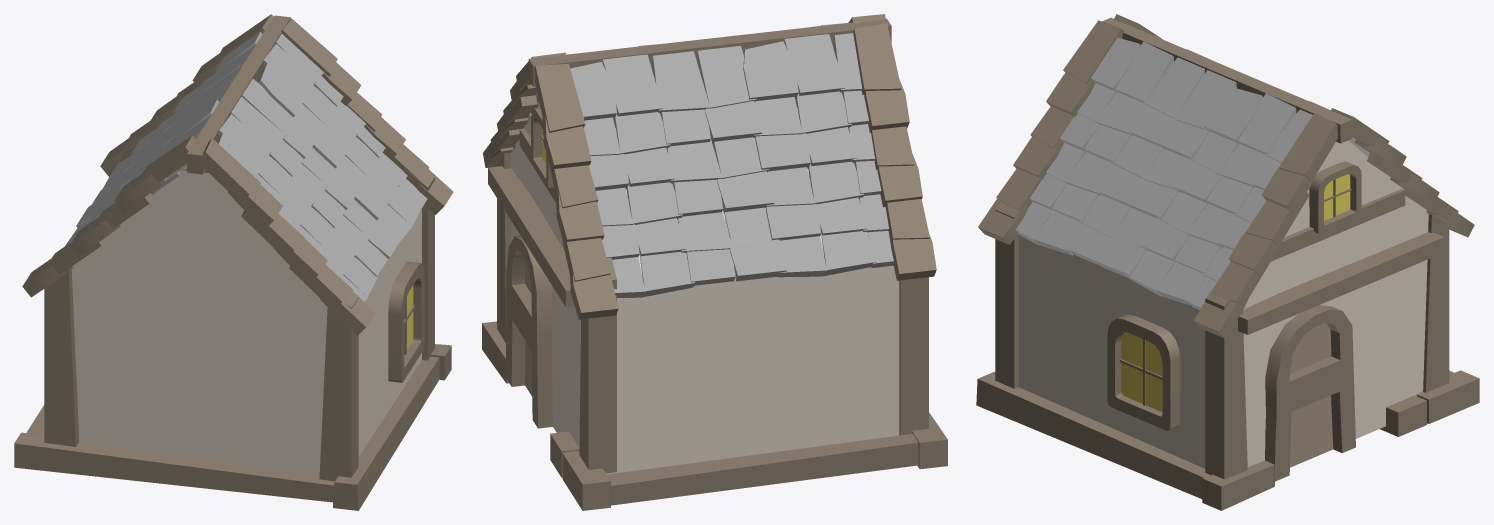
The model's file is casa 1.fbx.
3 views of the same model, side by side, from view 1: azimuth 30°, elevation 25°; view 2: azimuth 150°, elevation 25°; view 3: azimuth 270°, elevation 25° (orthographic). The views are drawn at different scales.
Parts seen in each view (by area): view 1: pCube6, pCube18, pPlane9 (×11), pPlane6 (×10), pPlane7 (×10), pPlane8 (×10), pCube21, pCube22, pCube17, pCube25, pCube13, pPlane11 (×3) (+5 smaller); view 2: pCube6, pPlane7 (×12), pPlane9 (×11), pPlane6 (×11), pPlane8 (×12), pCube19, pCube20, pCube9, pCube22, pCube10, pCube13, pPlane10 (×3) (+9 smaller); view 3: pCube6, pPlane9 (×12), pPlane6 (×12), pPlane7 (×11), pCube20, pPlane8 (×9), pCube17, pCube25, pCube16, pCube10, pCube9, pCube21 (+10 smaller).
Boxes of the visible parts, bbox=[...] form: pCube6: bbox=[71, 166, 421, 474]; pCube18: bbox=[14, 432, 334, 502]; pPlane9 (×11): bbox=[114, 62, 401, 258]; pPlane6 (×10): bbox=[137, 14, 412, 241]; pPlane7 (×10): bbox=[231, 34, 422, 297]; pPlane8 (×10): bbox=[205, 44, 400, 276]; pCube21: bbox=[319, 292, 358, 481]; pCube22: bbox=[44, 269, 78, 446]; pCube17: bbox=[333, 356, 439, 510]; pCube25: bbox=[388, 261, 424, 382]; pCube13: bbox=[187, 15, 290, 174]; pPlane11 (×3): bbox=[70, 117, 405, 283]; pCube6: bbox=[511, 104, 899, 474]; pPlane7 (×12): bbox=[613, 33, 888, 296]; pPlane9 (×11): bbox=[542, 41, 909, 281]; pPlane6 (×11): bbox=[534, 23, 901, 297]; pPlane8 (×12): bbox=[603, 34, 893, 285]; pCube19: bbox=[607, 433, 918, 505]; pCube20: bbox=[505, 236, 552, 428]; pCube9: bbox=[579, 257, 616, 473]; pCube22: bbox=[899, 277, 928, 435]; pCube10: bbox=[488, 166, 574, 307]; pCube13: bbox=[528, 18, 891, 86]; pPlane10 (×3): bbox=[503, 95, 914, 208]; pCube6: bbox=[1018, 140, 1428, 468]; pPlane9 (×12): bbox=[1029, 37, 1406, 277]; pPlane6 (×12): bbox=[1015, 20, 1389, 296]; pPlane7 (×11): bbox=[1033, 57, 1312, 305]; pCube20: bbox=[1265, 305, 1355, 481]; pPlane8 (×9): bbox=[1052, 41, 1296, 273]; pCube17: bbox=[976, 372, 1210, 498]; pCube25: bbox=[1107, 314, 1180, 430]; pCube16: bbox=[1205, 289, 1247, 479]; pCube10: bbox=[1238, 232, 1444, 334]; pCube9: bbox=[1423, 214, 1449, 392]; pCube21: bbox=[995, 202, 1018, 388].
Size of the model in its own units: 3.36 by 2.51 by 3.36.
